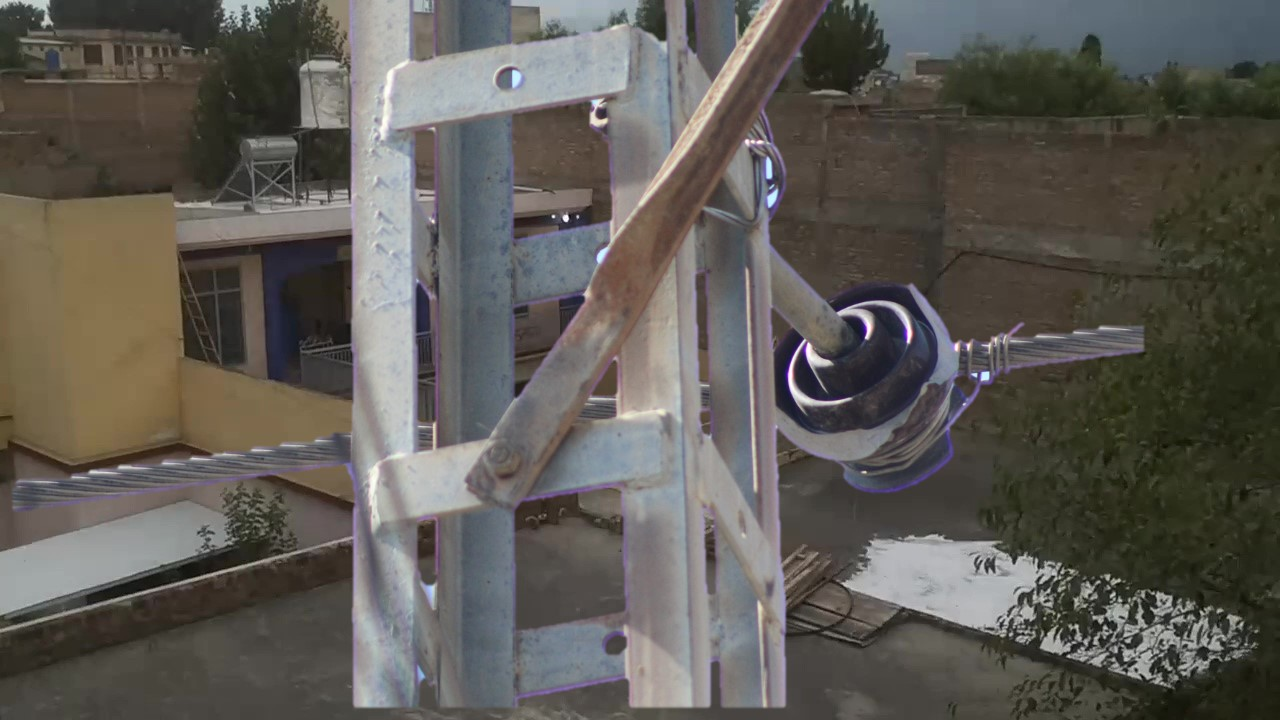defect_pin: (771, 269, 983, 509)
